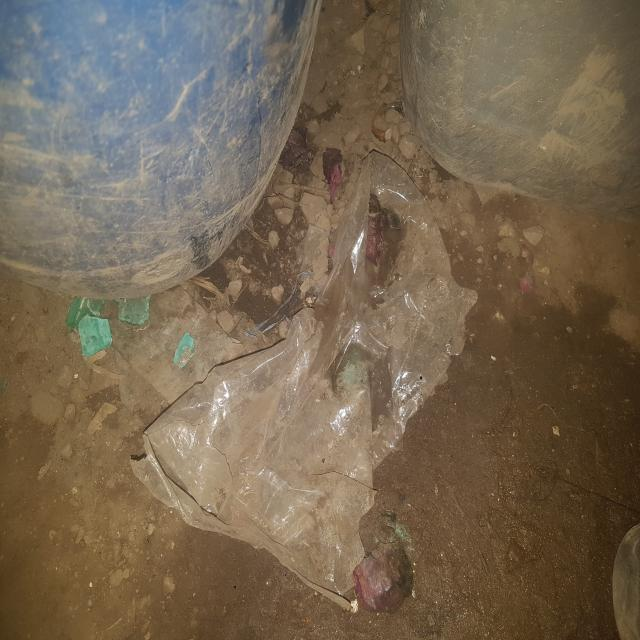general: (129, 148, 478, 612)
